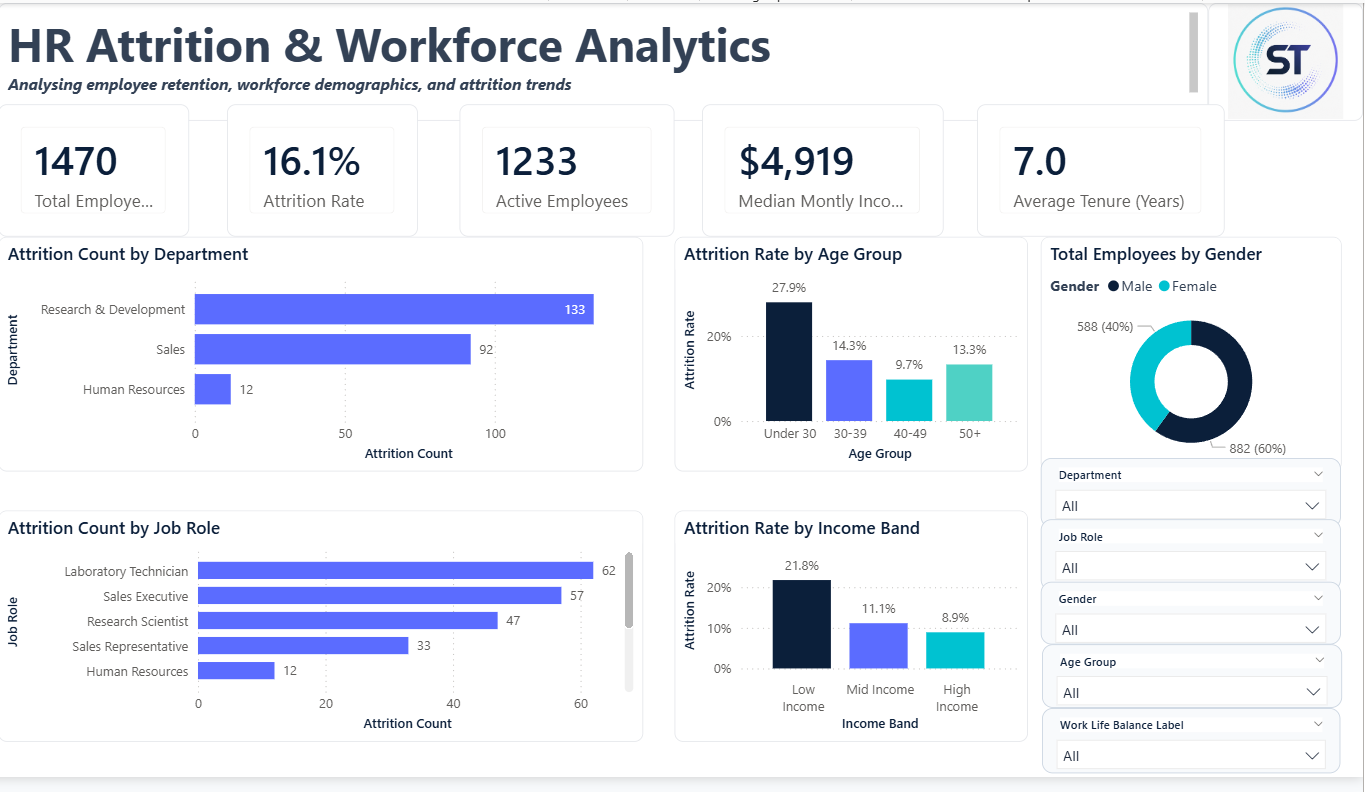

The dashboard page shown, as its layout file describes it:
{"tool":"powerbi","page":{"name":"Workforce Overview","canvas":[1280,720],"ordinal":0},"visuals":[{"type":"textbox","box":[10.5,0,1125.6,109.3],"z":0},{"type":"image","box":[1136,0,144.2,109.3],"z":1000},{"type":"cardVisual","fields":{"Data":["Measures Table.Total Employees"]},"box":[10.5,94.2,177.9,123.3],"z":2000},{"type":"cardVisual","fields":{"Data":["Measures Table.Attrition Rate"]},"box":[223.3,94.2,177.9,123.3],"z":3000},{"type":"cardVisual","fields":{"Data":["Measures Table.Active Employees"]},"box":[439.5,94.2,200,123.3],"z":4000},{"type":"cardVisual","fields":{"Data":["Measures Table.Median Montly Income"]},"box":[665.1,94.2,224.4,123.3],"z":5000},{"type":"cardVisual","fields":{"Data":["Measures Table.Average Tenure"]},"box":[920.9,94.2,230.2,123.3],"z":6000},{"type":"clusteredBarChart","fields":{"Category":["Department.Department"],"Y":["Measures Table.Attrition Count"]},"box":[10.5,217.4,600,218.6],"z":7000},{"type":"clusteredBarChart","fields":{"Category":["Job Role.Job Role"],"Y":["Measures Table.Attrition Count"]},"box":[10.5,472.1,600,215.1],"z":8000},{"type":"clusteredColumnChart","fields":{"Category":["Employees.Age Group"],"Y":["Measures Table.Attrition Rate"]},"box":[639.5,217.4,329.1,218.6],"z":9000},{"type":"clusteredColumnChart","fields":{"Category":["Employees.Income Band"],"Y":["Measures Table.Attrition Rate"]},"box":[639.5,472.1,329.1,215.1],"z":10000},{"type":"donutChart","fields":{"Category":["Employees.Gender"],"Y":["Measures Table.Total Employees"]},"box":[980.2,217.4,280.2,218.6],"z":11000},{"type":"slicer","fields":{"Values":["Department.Department"]},"box":[980.2,423.3,279.1,65.1],"z":12000},{"type":"slicer","fields":{"Values":["Job Role.Job Role"]},"box":[980.2,480.2,279.1,66.3],"z":13000},{"type":"slicer","fields":{"Values":["Employees.Gender"]},"box":[980.2,538.4,279.1,58.1],"z":14000},{"type":"slicer","fields":{"Values":["Employees.Age Group"]},"box":[981.4,596.5,279.1,59.3],"z":15000},{"type":"slicer","fields":{"Values":["Employees.Work Life Balance Label"]},"box":[981.4,655.8,277.9,60.5],"z":16000}]}

Visuals, with their boxes on the page's 1280x720 design canvas (x1, y1, x2, y2). These are canvas units, not pixel positions in the 1365x792 screenshot, which may show the page scaled, cropped or inside an application window:
textbox: [x1=10, y1=0, x2=1136, y2=109]
image: [x1=1136, y1=0, x2=1280, y2=109]
cardVisual - Measures Table.Total Employees: [x1=10, y1=94, x2=188, y2=218]
cardVisual - Measures Table.Attrition Rate: [x1=223, y1=94, x2=401, y2=218]
cardVisual - Measures Table.Active Employees: [x1=440, y1=94, x2=640, y2=218]
cardVisual - Measures Table.Median Montly Income: [x1=665, y1=94, x2=890, y2=218]
cardVisual - Measures Table.Average Tenure: [x1=921, y1=94, x2=1151, y2=218]
clusteredBarChart - Department.Department x Measures Table.Attrition Count: [x1=10, y1=217, x2=610, y2=436]
clusteredBarChart - Job Role.Job Role x Measures Table.Attrition Count: [x1=10, y1=472, x2=610, y2=687]
clusteredColumnChart - Employees.Age Group x Measures Table.Attrition Rate: [x1=640, y1=217, x2=969, y2=436]
clusteredColumnChart - Employees.Income Band x Measures Table.Attrition Rate: [x1=640, y1=472, x2=969, y2=687]
donutChart - Employees.Gender x Measures Table.Total Employees: [x1=980, y1=217, x2=1260, y2=436]
slicer - Department.Department: [x1=980, y1=423, x2=1259, y2=488]
slicer - Job Role.Job Role: [x1=980, y1=480, x2=1259, y2=546]
slicer - Employees.Gender: [x1=980, y1=538, x2=1259, y2=596]
slicer - Employees.Age Group: [x1=981, y1=596, x2=1260, y2=656]
slicer - Employees.Work Life Balance Label: [x1=981, y1=656, x2=1259, y2=716]
